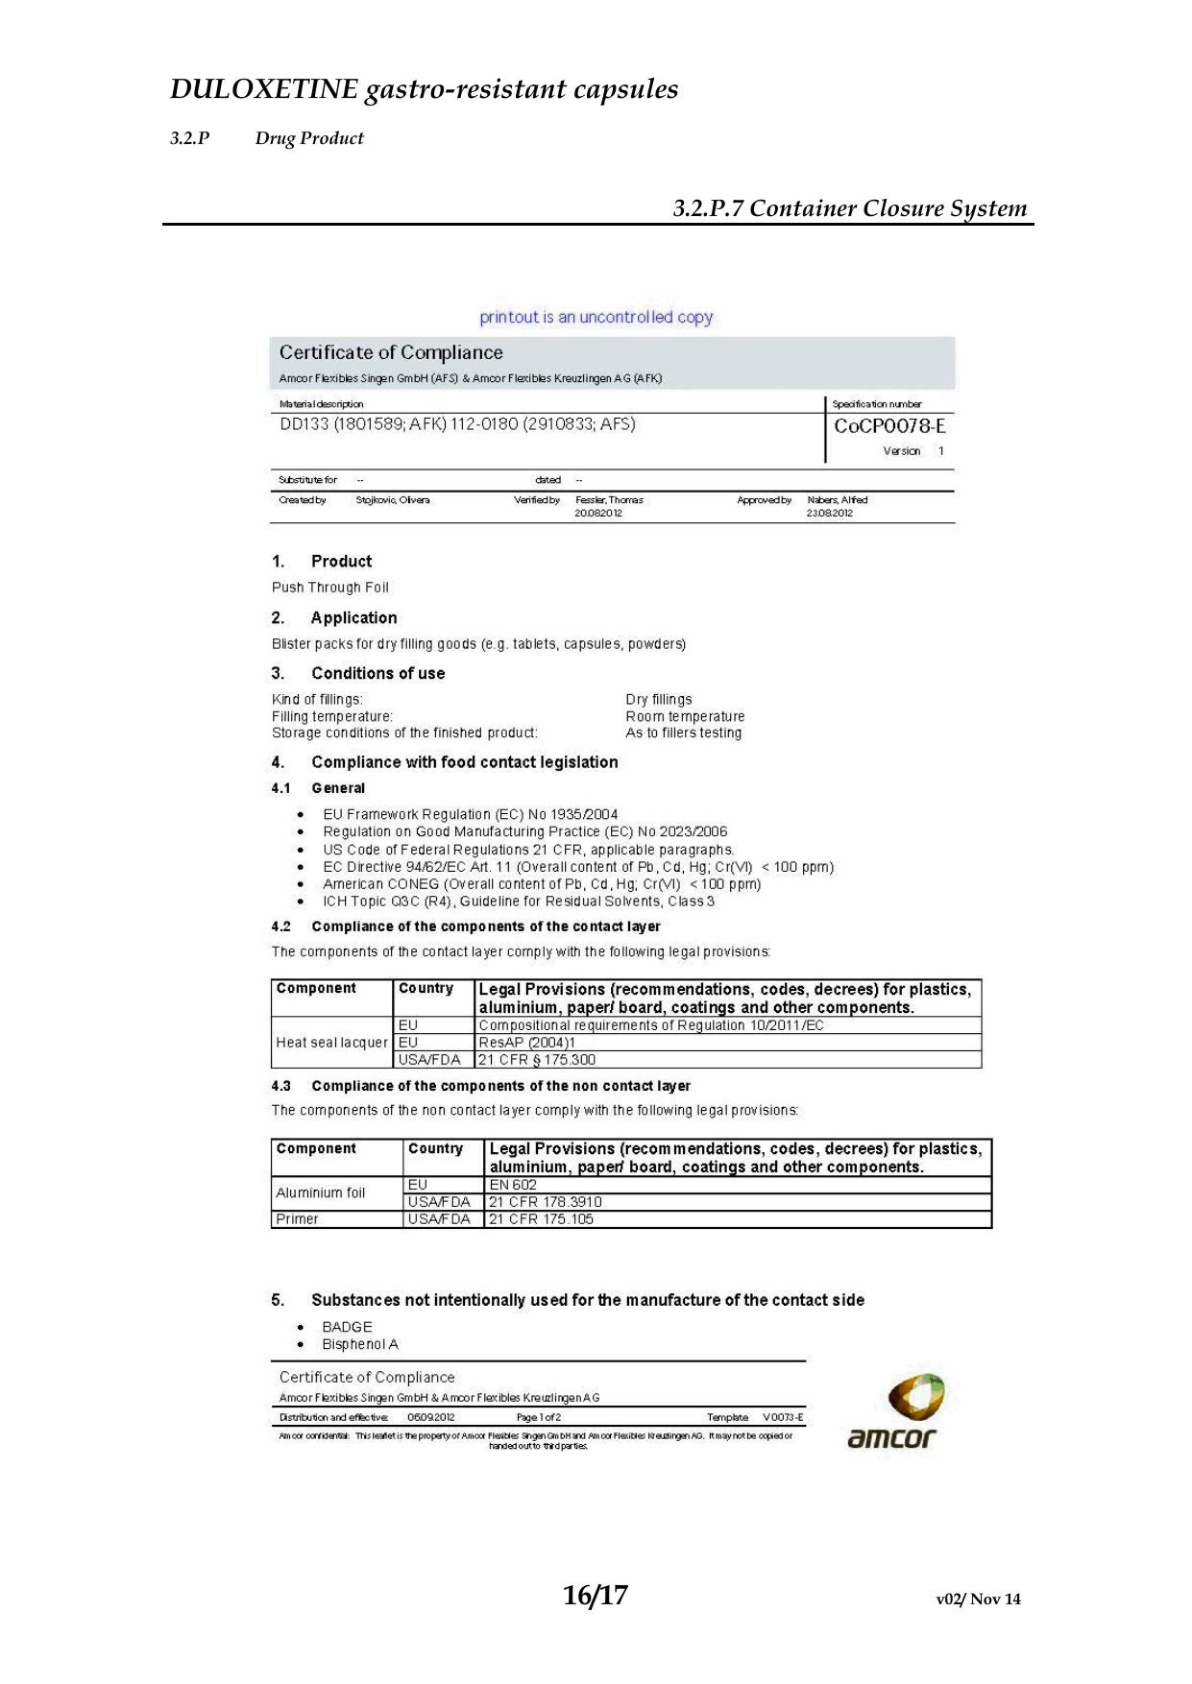merged_cells: (270, 1137, 995, 1230), (268, 977, 984, 1070)
partial_lined_merged_cells: (268, 411, 956, 525), (270, 1359, 808, 1454)
